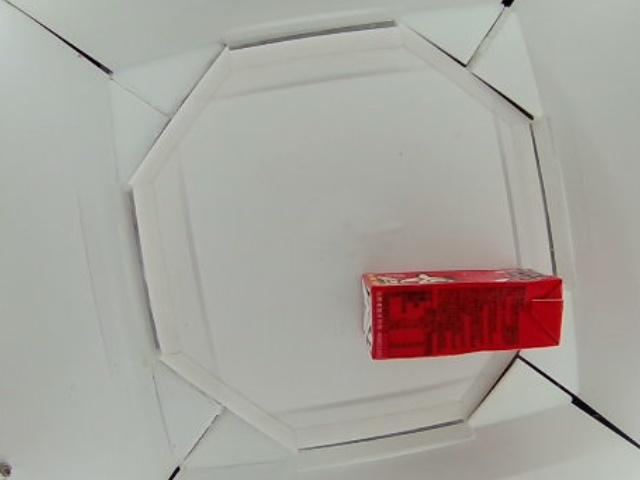Bottle: (359, 256, 566, 361)
